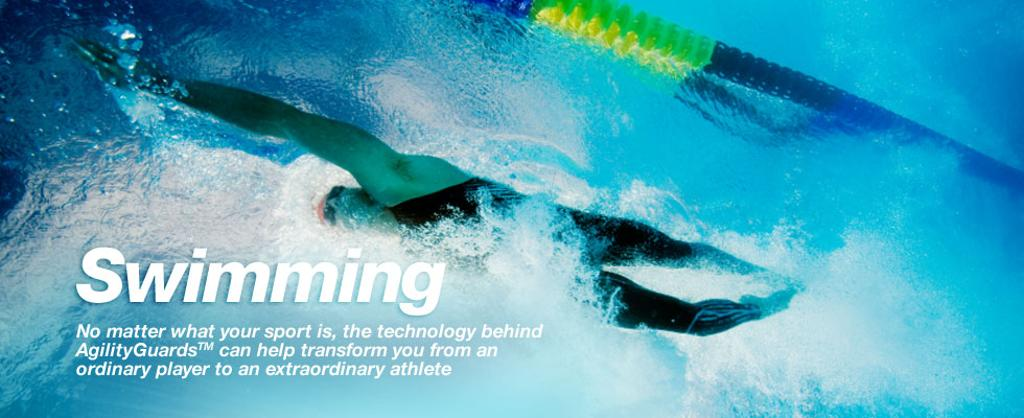face: (304, 188, 374, 232)
